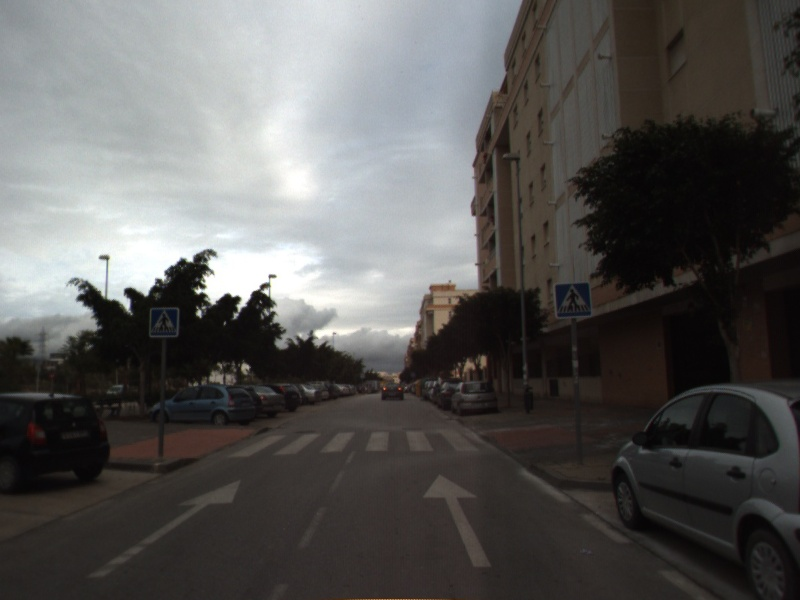STRAIGHT: (83, 478, 243, 580), (421, 472, 493, 569)
